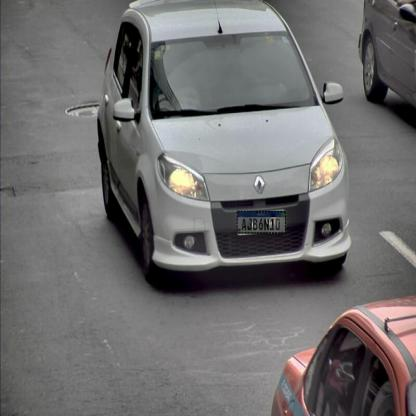PlacaM: (237, 210, 286, 233)
